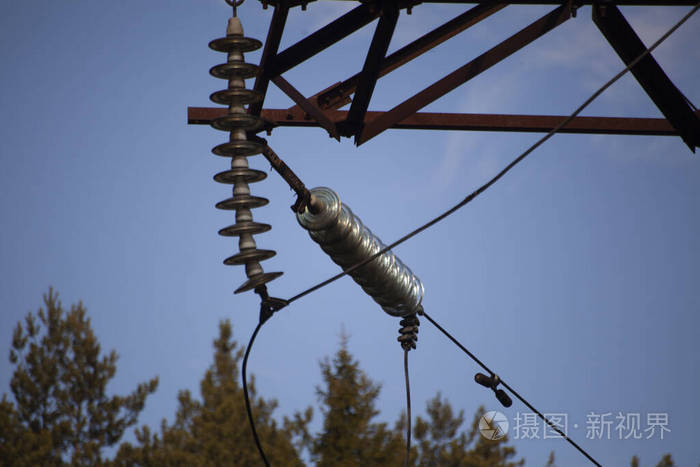insulator: (208, 35, 285, 293), (300, 186, 424, 317)
